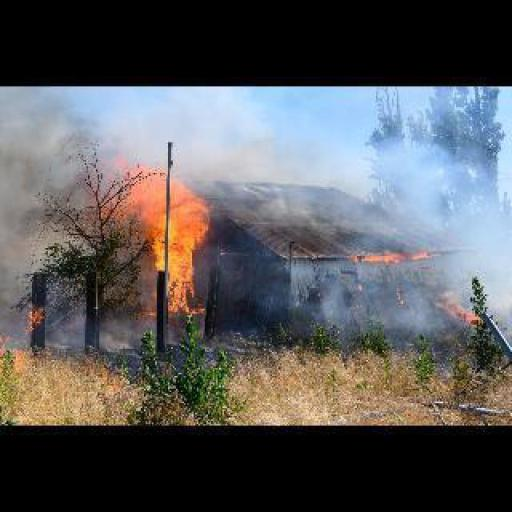smoke: (208, 85, 510, 240), (221, 262, 437, 357), (106, 157, 218, 315), (53, 317, 221, 357), (438, 282, 492, 332), (346, 242, 434, 260), (14, 299, 48, 339)
